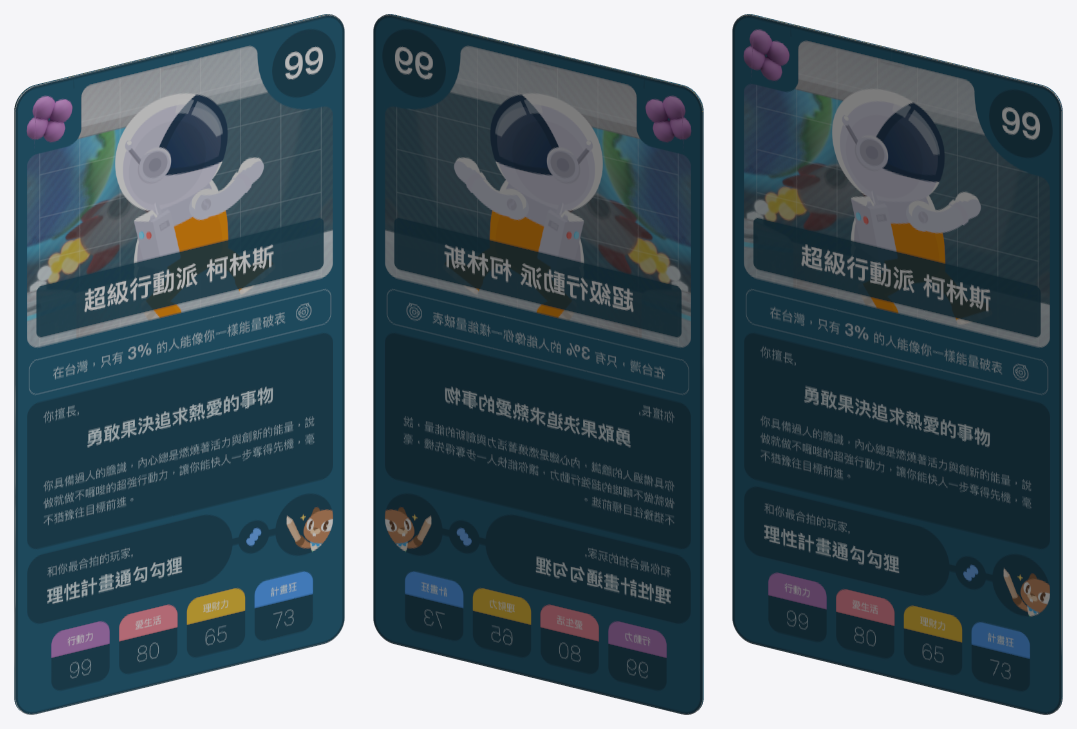
Rendered from Brightness30_Blue.glb.
3 renders of one model, left to right at view 1: azimuth 30°, elevation 25°; view 2: azimuth 150°, elevation 25°; view 3: azimuth 330°, elevation 25°, orthographic.
Parts seen in each view (by area): view 1: 形狀_1_4; view 2: 形狀_1_4; view 3: 形狀_1_4.
Boxes of the visible parts, x1=… form: 形狀_1_4: x1=14, y1=14, x2=344, y2=714; 形狀_1_4: x1=373, y1=14, x2=703, y2=714; 形狀_1_4: x1=732, y1=14, x2=1062, y2=714.
Bounding box in the file's own units: 1.5 × 2.74 × 0.00807.
1 material, 1 textured.
